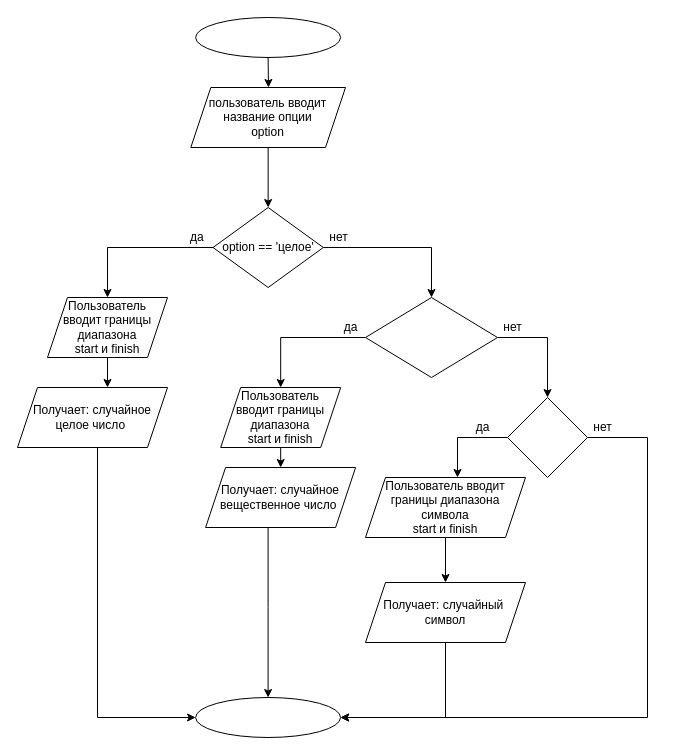
Some shapes in this 673 by 755 pixel diagram are drawn without their labels. Each missing label, with the centre of its shape:
option == 'вещественное': (431,337)
option == 'символ': (547,437)
конец: (268,717)
начало: (268,37)
